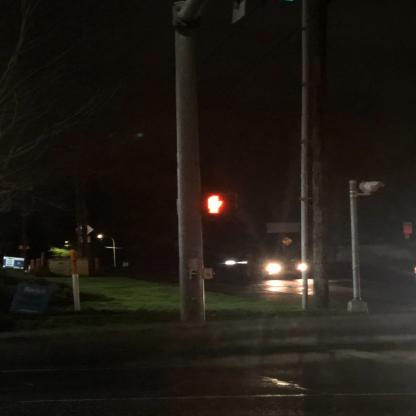Don-t Walk: (206, 193, 227, 214)
